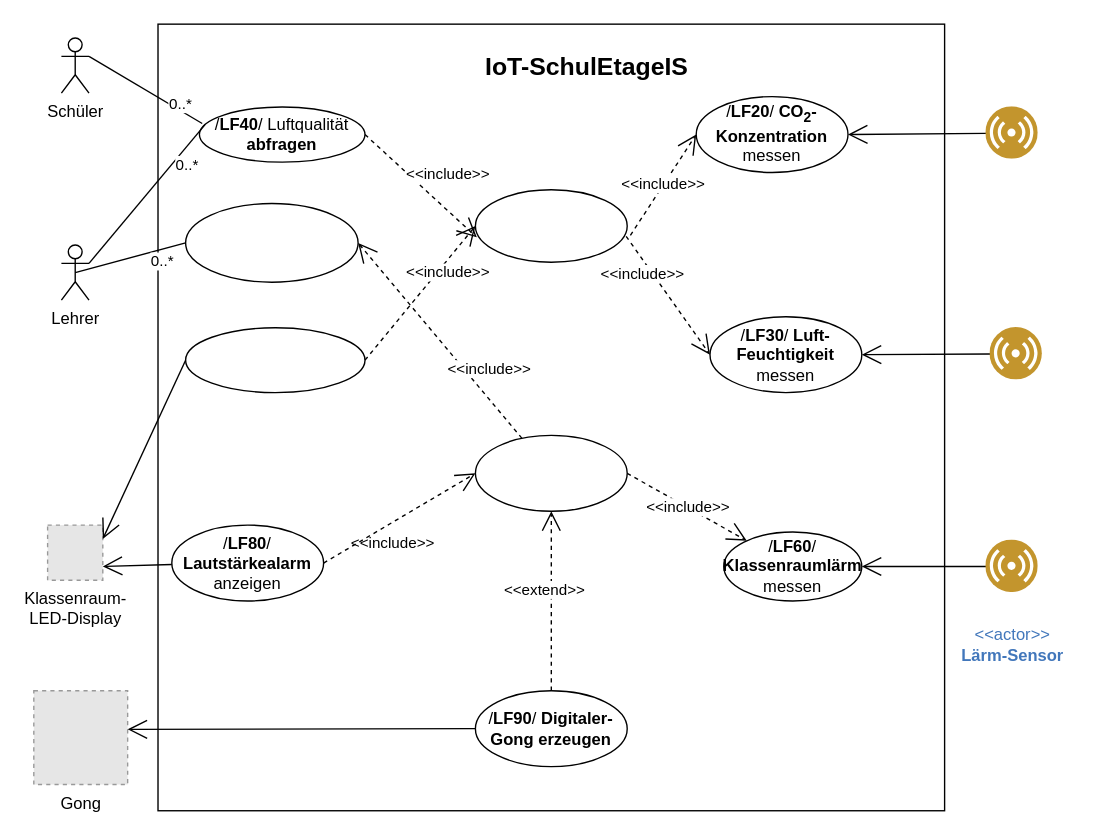
This 1110x838 diagram has some shape labels left out. Grey dashed boxes stand in for pictures. Here are the shapes that lost their labels. From the top down, the centre of each, then its label:
pixel 1011 132: <<actor>> CO 2 -Sensor
pixel 271 242: /LFXX/ Lärm-Schwellen-Wert einstellen
pixel 550 225: / LF10 / Luftqualität ermitteln
pixel 274 359: / LF50 / Luftqualität anzeigen
pixel 1015 353: <<actor>> Luftfeuchtigkeits- Sensor
pixel 550 472: / LF70 / Lärmbelastung ermitteln
